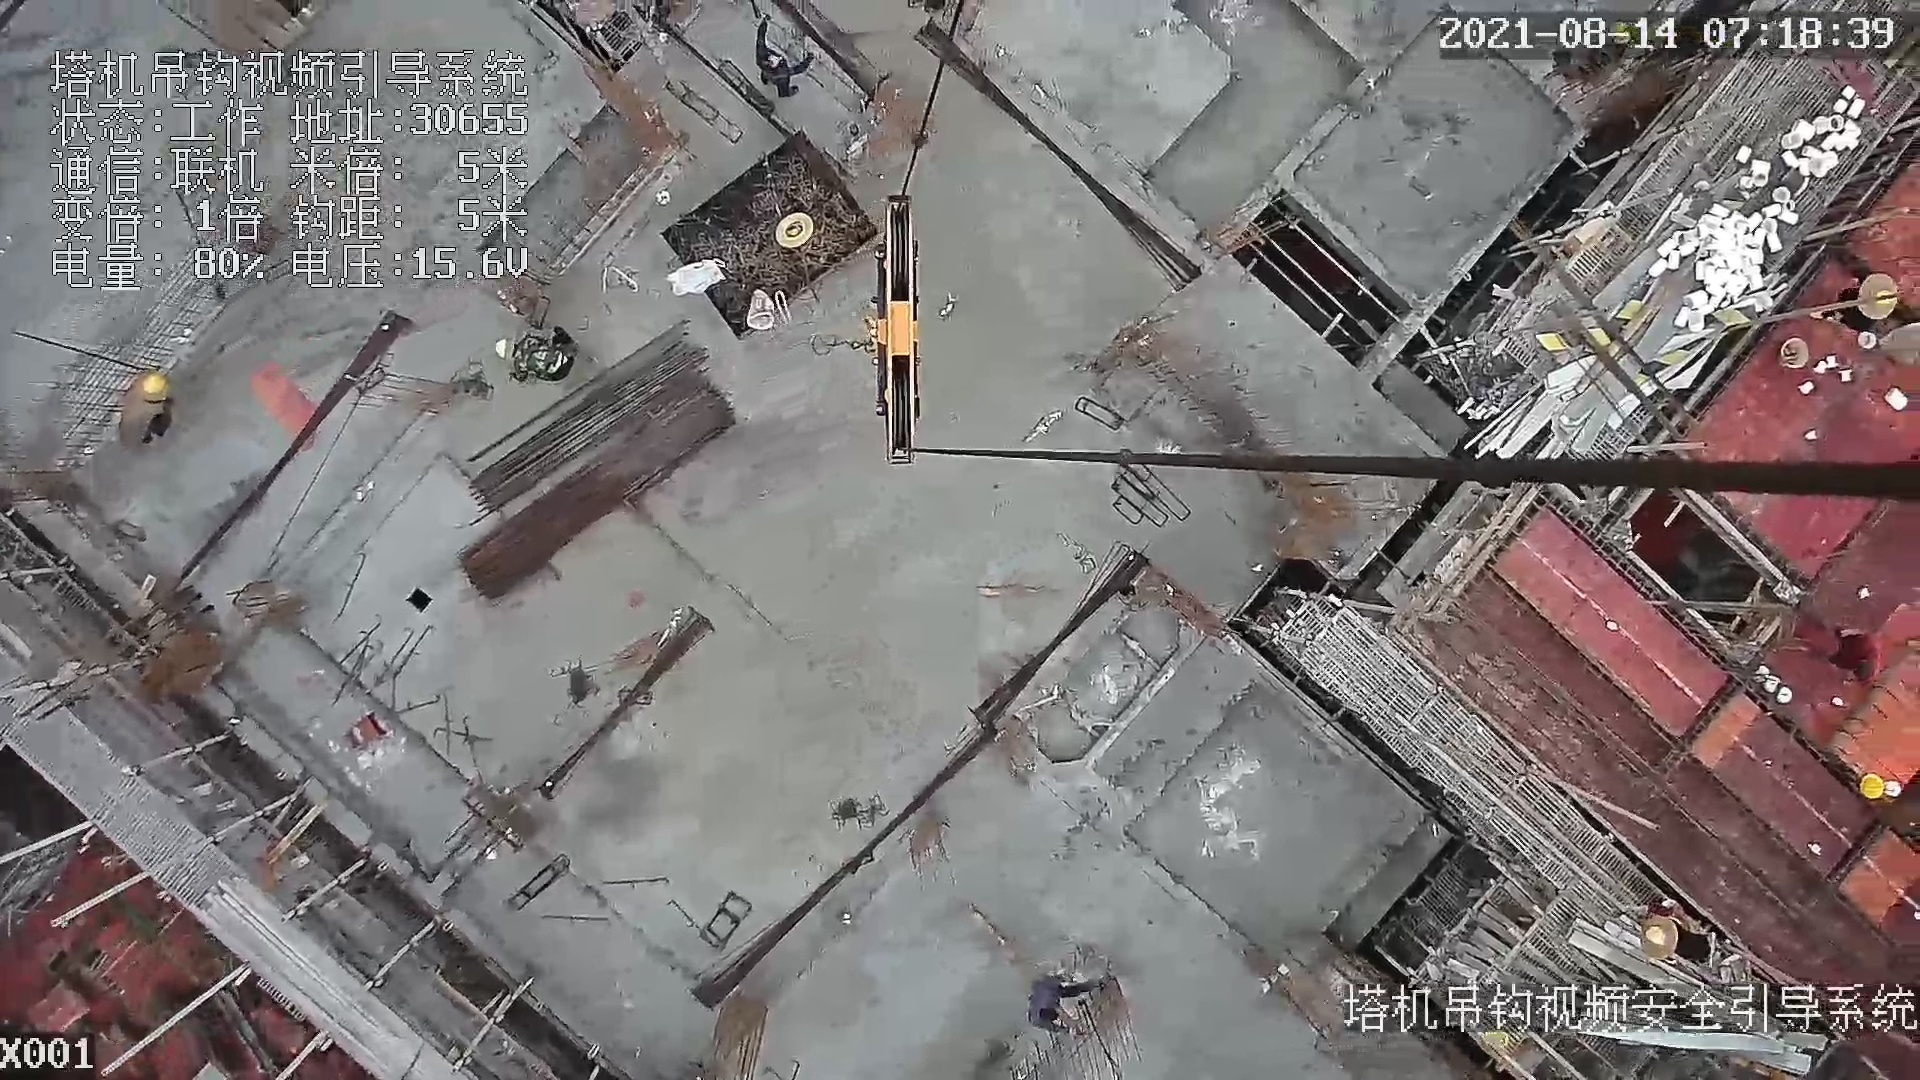helmet: (136, 374, 169, 395)
hook: (864, 181, 932, 471)
person: (108, 369, 186, 462), (750, 14, 812, 103)
